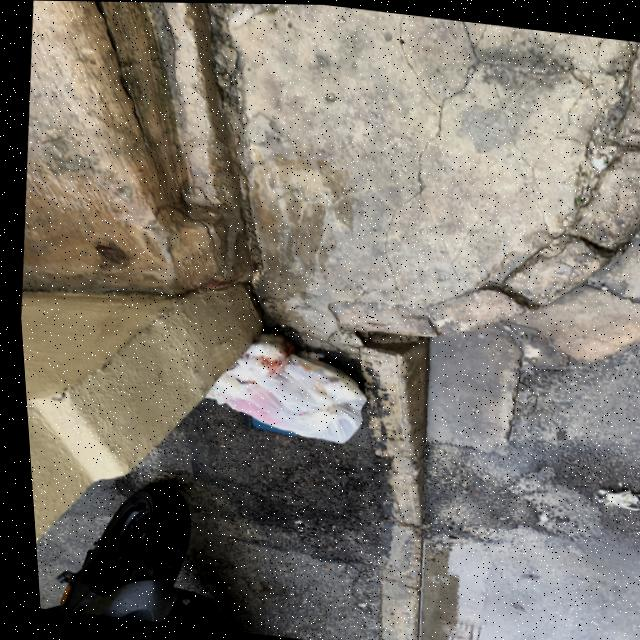Organic Waste -White Bag-: (182, 322, 375, 458)
